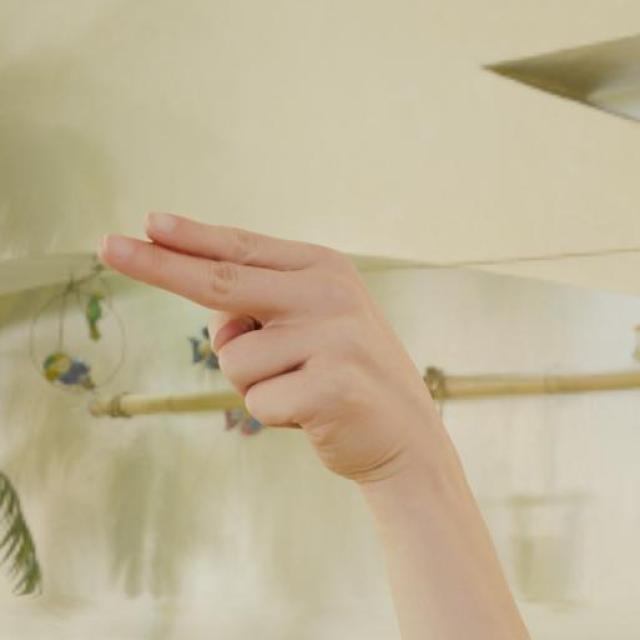H: (91, 203, 449, 482)
